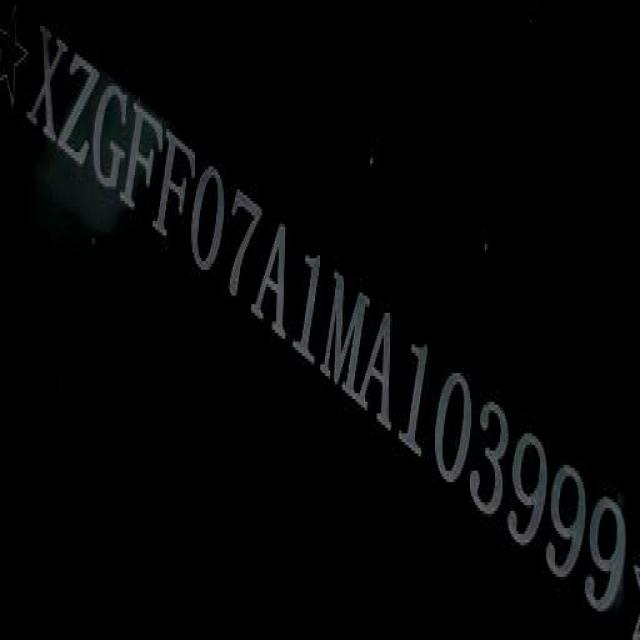0: (430, 367, 475, 491), (189, 162, 228, 280)
1: (393, 328, 435, 464), (291, 249, 322, 373)
3: (468, 392, 511, 524)
7: (218, 183, 268, 313)
9: (583, 484, 629, 620), (505, 426, 551, 554), (546, 458, 590, 591)
A: (358, 296, 398, 431), (252, 222, 292, 341)
F: (150, 125, 198, 242), (120, 99, 164, 208)
G: (87, 75, 140, 207)
M: (319, 268, 380, 409)
X: (26, 26, 66, 142)
Z: (57, 49, 99, 168)
